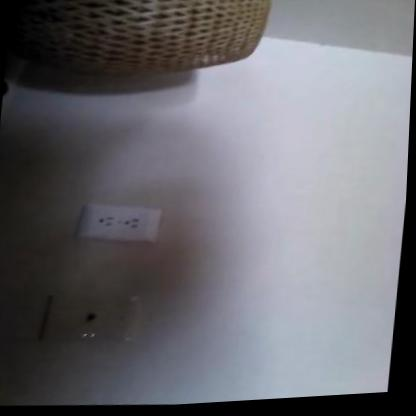OUTLET: (77, 201, 159, 245)
